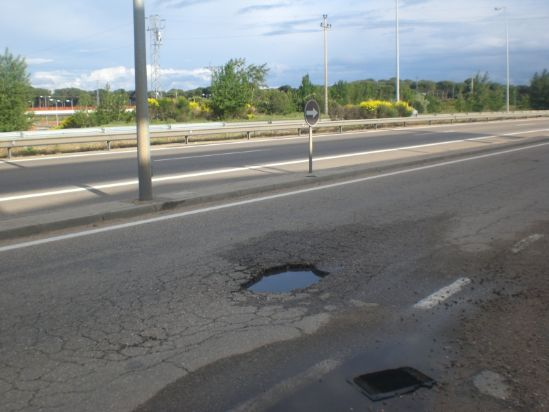pothole: (234, 260, 331, 302)
